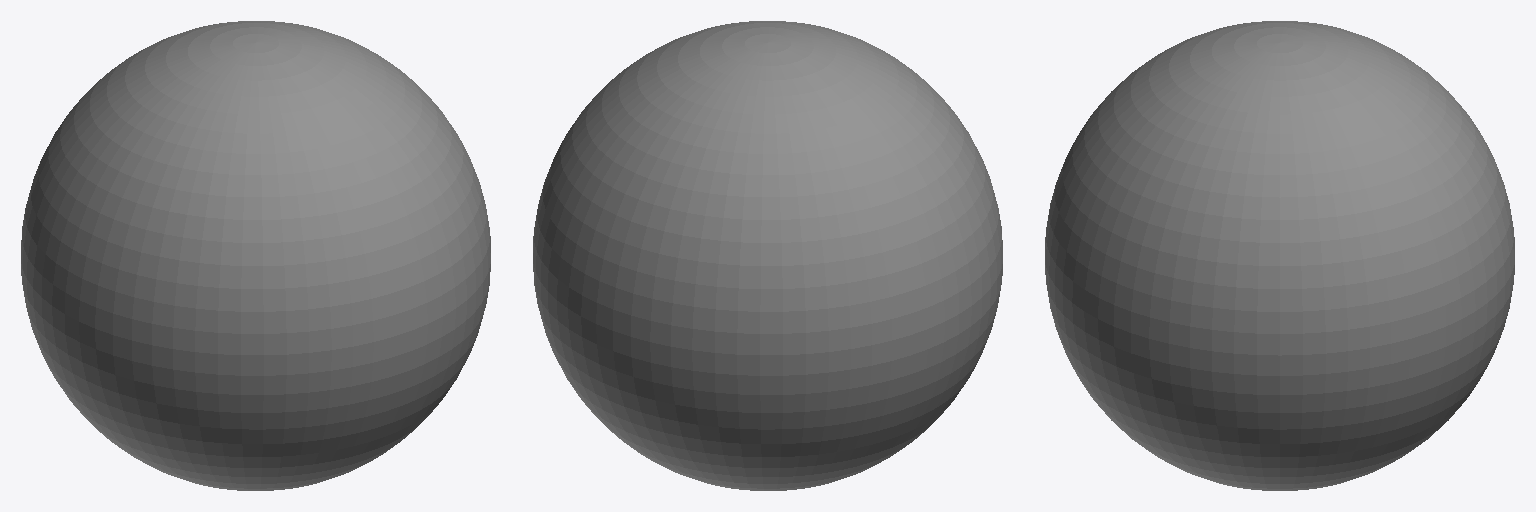
File: earth2.obj
3 views of the same model, side by side, from view 1: azimuth 30°, elevation 25°; view 2: azimuth 150°, elevation 25°; view 3: azimuth 270°, elevation 25° (orthographic).
Visible parts, largest first — view 1: Sphere002; view 2: Sphere002; view 3: Sphere002.
Part boxes in pixels (left/top/right/bottom): Sphere002: left=21, top=21, right=490, bottom=490; Sphere002: left=533, top=21, right=1002, bottom=490; Sphere002: left=1045, top=21, right=1514, bottom=490.
Size of the model in its own units: 16.98 by 16.98 by 16.98.